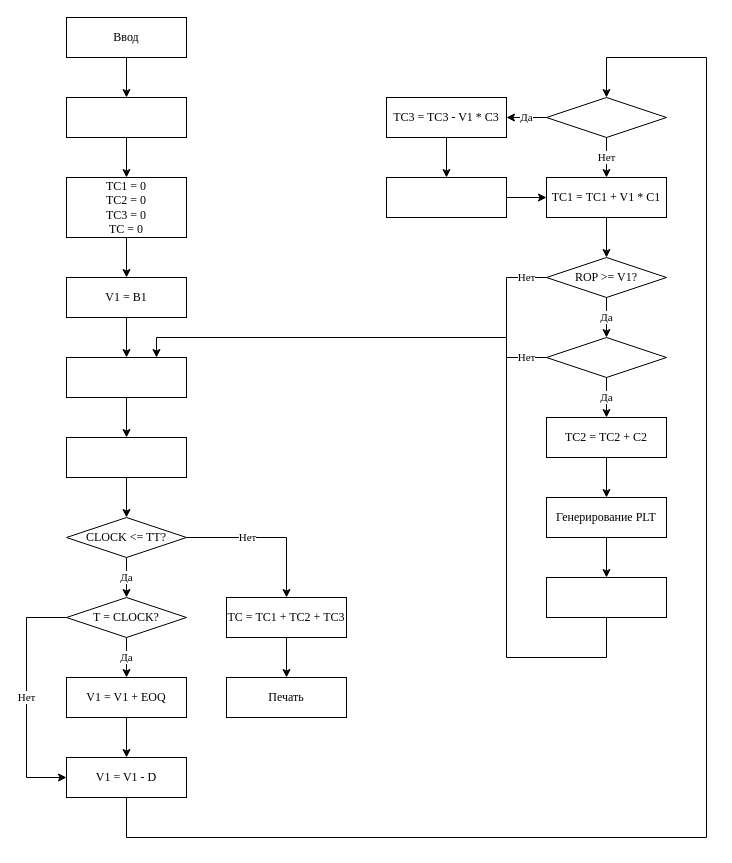
This 732x863 diagram has some shape labels left out. The shapes that lost their labels are listed below. From the top down, each one's centre as x and y in pixels, then its label:
(x=126, y=117): CLOCK = 0 T = 0
(x=606, y=117): V1 < 0?
(x=446, y=197): V1 = 0
(x=126, y=377): Генерирование D
(x=606, y=357): T <= CLOCK?
(x=126, y=457): CLOCK = CLOCK + 1
(x=606, y=597): T = CLOCK + PLT
